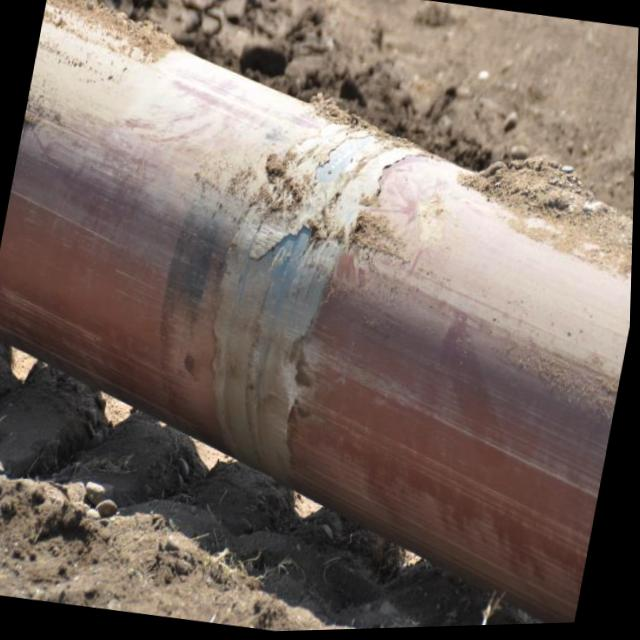leak: (258, 229, 307, 315)
